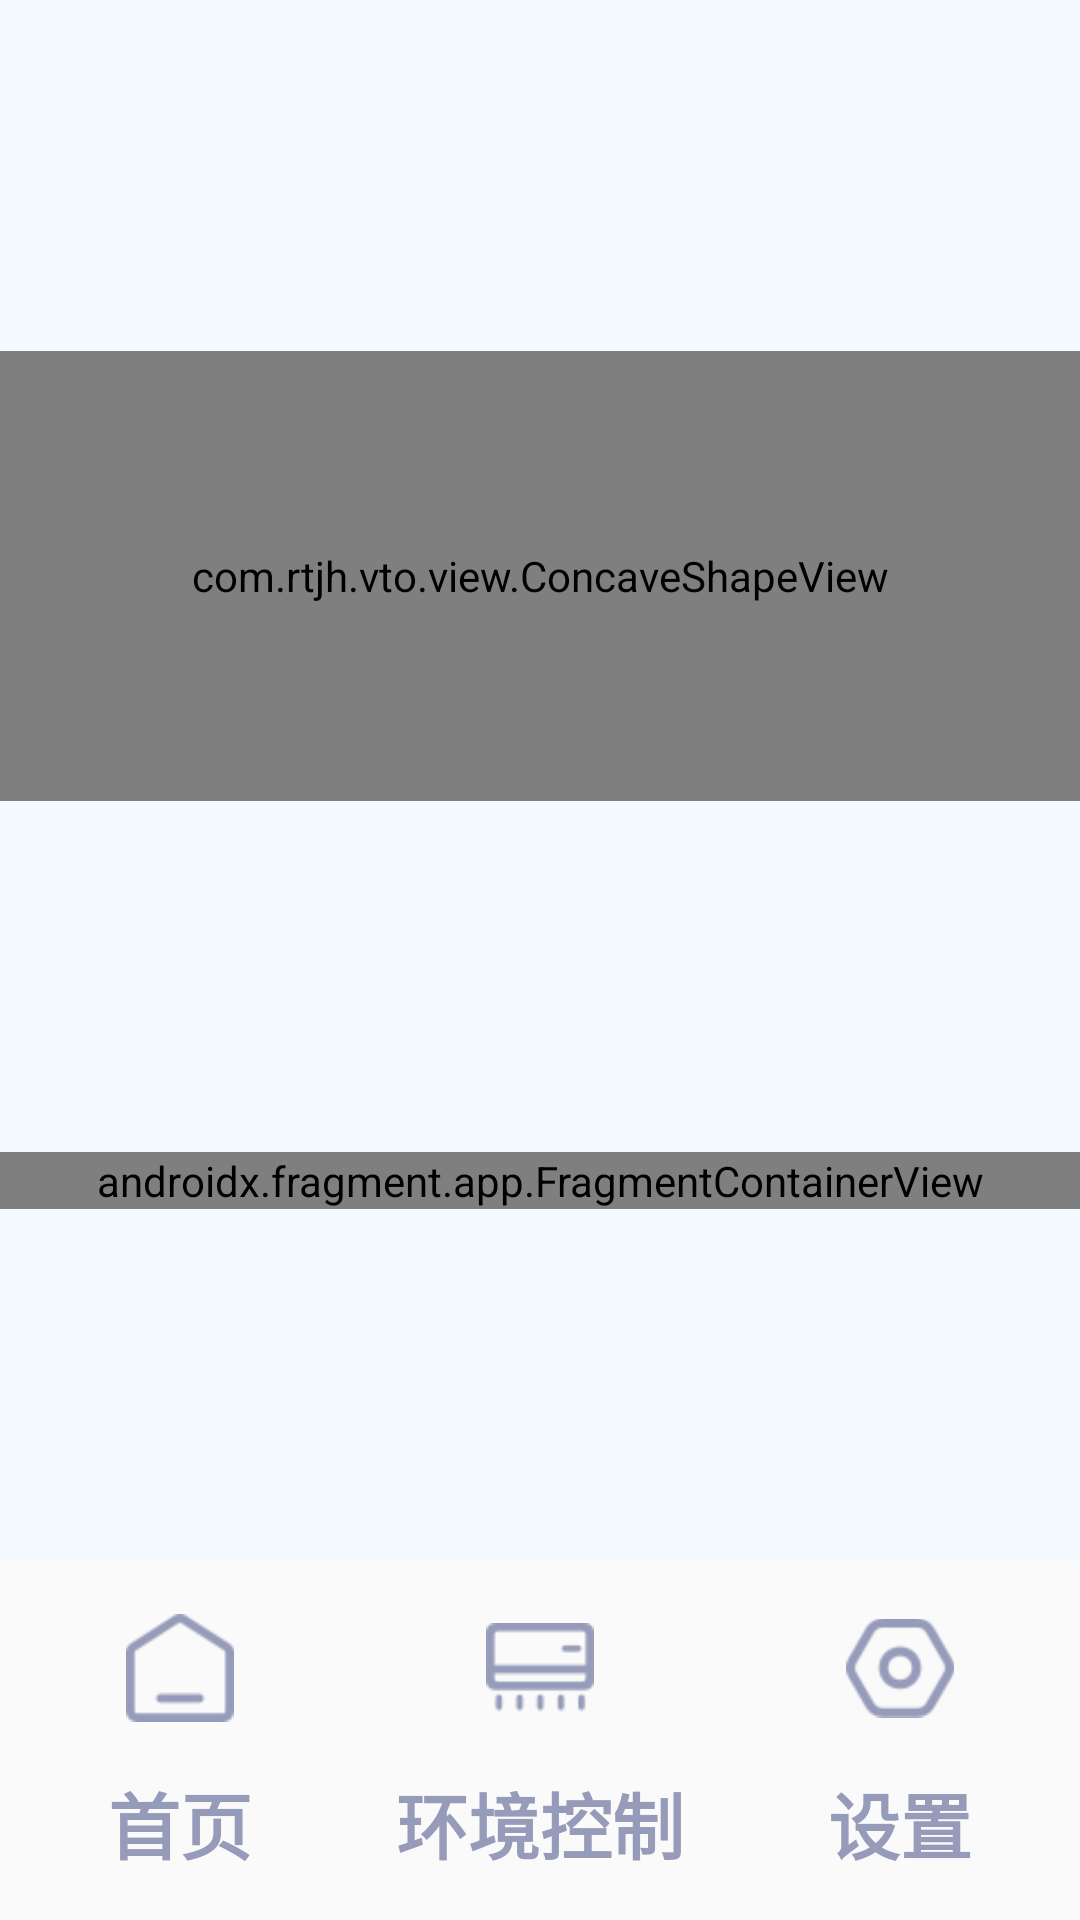

Screen size 1080×1920. Icon name, then its center in pixels as (x=x, y=y):
control: (x=540, y=1667)
home: (x=180, y=1668)
setting: (x=900, y=1668)
